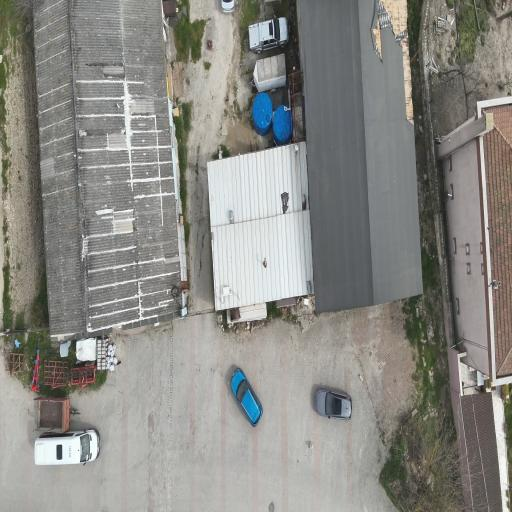bus: (34, 430, 101, 465)
car: (231, 368, 262, 426), (248, 17, 289, 54), (315, 389, 351, 420), (222, 0, 234, 13)
